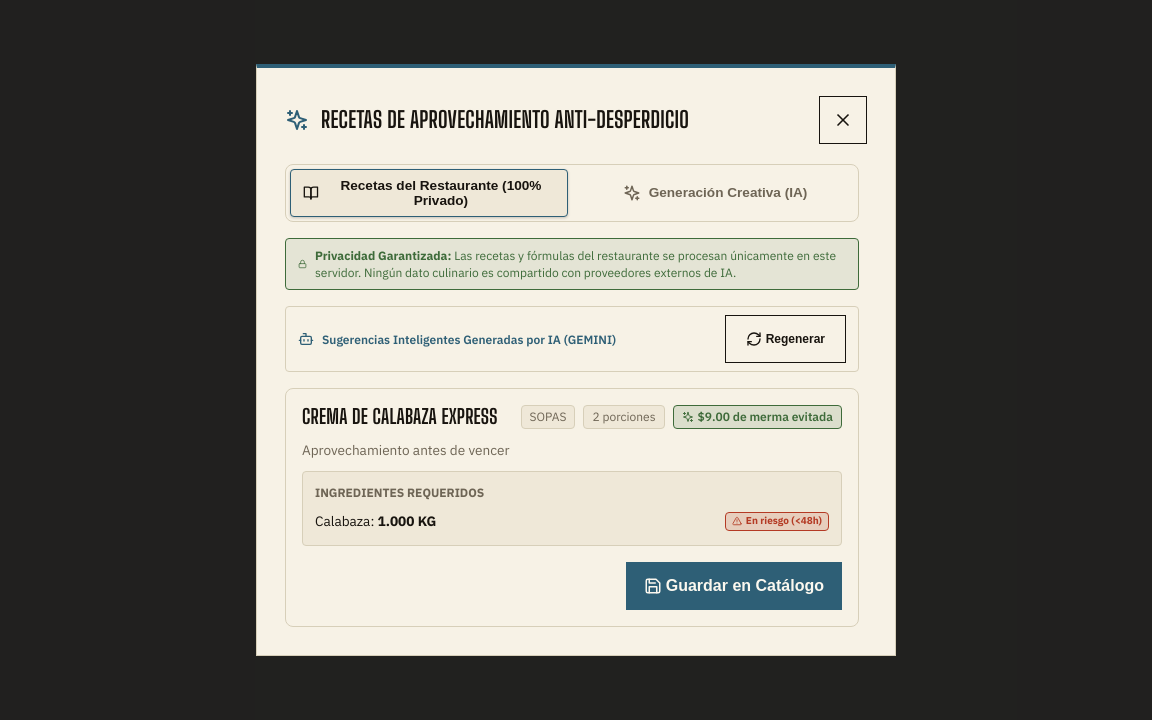
Scenario: TK-122-FE: RescueRecipesModal › permite guardar una sugerencia en el catálogo de recetas
Expected: the heading "Crema de Calabaza Express" is shown, [302,406,498,428]
Expected: the text "Sugerencias Inteligentes Generadas por IA (GEMINI)" is shown, [322,331,616,348]
Click the button with aria-label "Guardar receta Crema de Calabaza Express" at (734, 586), box [626,562,842,610]
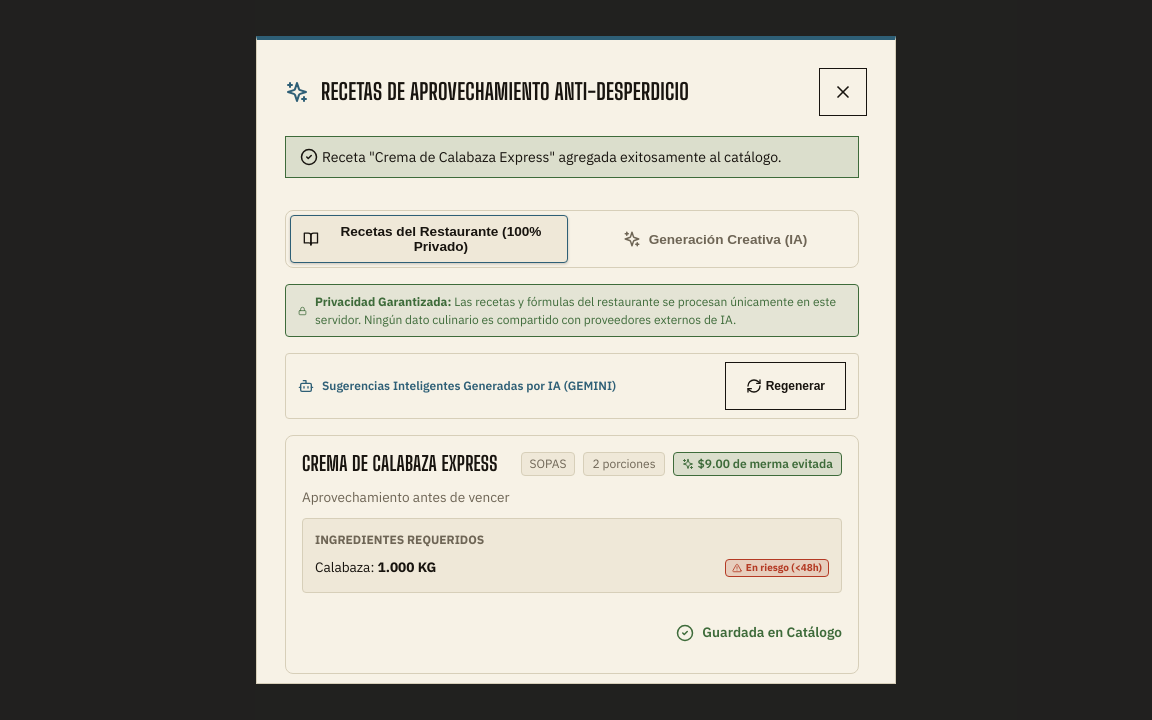
Expected: the heading "Crema de Calabaza Express" is shown, [302,452,498,475]
Expected: the text "Guardada en Catálogo" is shown, [676,623,842,642]
